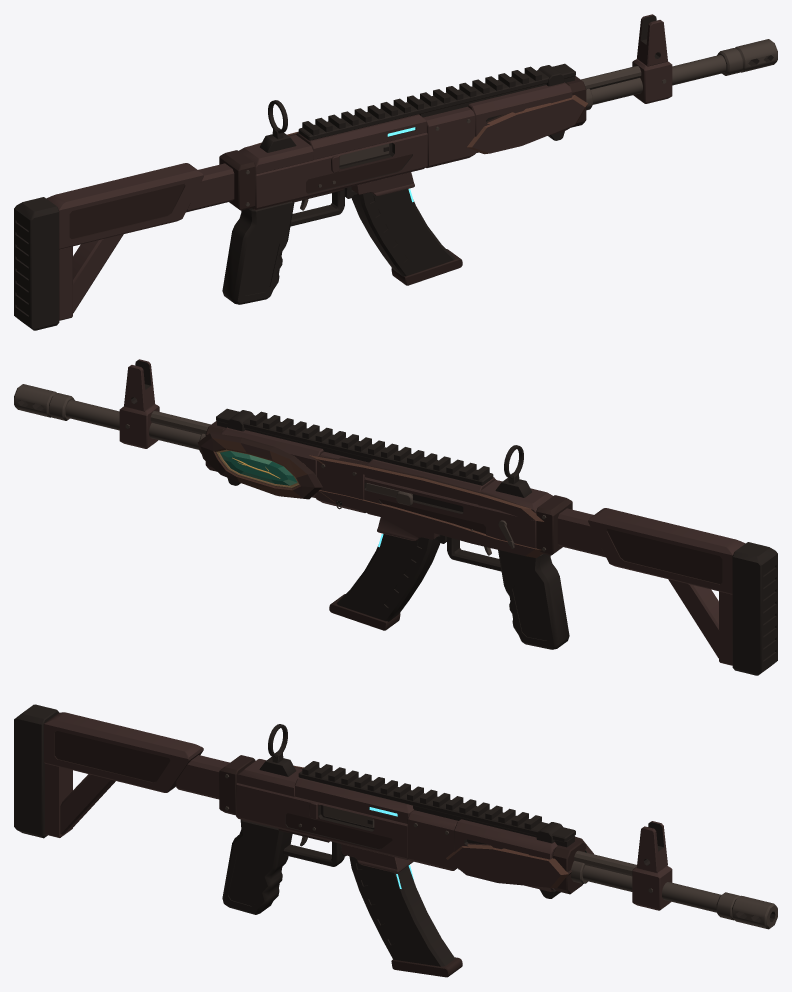
Rendered from Vandal_Rootglass_v01.fbx.
3 renders of one model, top to bottom at view 1: azimuth 30°, elevation 25°; view 2: azimuth 150°, elevation 25°; view 3: azimuth 330°, elevation 25°, orthographic.
Parts seen in each view (by area): view 1: Vandal_Stock, Vandal_Receiver, Vandal_Grip, Vandal_Mag, Vandal_Rail, Vandal_Barrel, Rootglass_RightWalnutCheek, Vandal_Handguard, Vandal_FrontSight, Vandal_RearSight, Vandal_Bolt; view 2: Vandal_Stock, Vandal_Receiver, Vandal_Grip, Vandal_Mag, Vandal_Rail, Vandal_Barrel, Rootglass_Left_CarvedShell, Rootglass_LowerWalnutLeaf, Rootglass_UpperWalnutLeaf, Vandal_FrontSight, Vandal_Handguard, Rootglass_Left_FacetedMineral (+1 smaller); view 3: Vandal_Stock, Vandal_Receiver, Vandal_Mag, Vandal_Rail, Vandal_Grip, Vandal_Barrel, Rootglass_RightWalnutCheek, Vandal_Handguard, Vandal_FrontSight, Vandal_RearSight, Vandal_Bolt.
Boxes of the visible parts, x1,y1,x2,y2 form: Vandal_Stock: (14, 163, 234, 330); Vandal_Receiver: (219, 106, 477, 210); Vandal_Grip: (222, 188, 344, 304); Vandal_Mag: (351, 189, 462, 285); Vandal_Rail: (298, 63, 575, 140); Vandal_Barrel: (581, 39, 777, 104); Rootglass_RightWalnutCheek: (467, 95, 588, 154); Vandal_Handguard: (468, 76, 592, 152); Vandal_FrontSight: (632, 14, 672, 103); Vandal_RearSight: (260, 100, 296, 152); Vandal_Bolt: (339, 143, 389, 165); Vandal_Stock: (557, 508, 777, 675); Vandal_Receiver: (314, 451, 572, 555); Vandal_Grip: (447, 537, 569, 649); Vandal_Mag: (329, 534, 440, 630); Vandal_Rail: (216, 408, 493, 485); Vandal_Barrel: (14, 384, 210, 449); Rootglass_Left_CarvedShell: (197, 431, 322, 499); Rootglass_LowerWalnutLeaf: (319, 490, 543, 557); Rootglass_UpperWalnutLeaf: (309, 455, 543, 521); Vandal_FrontSight: (119, 359, 159, 448); Vandal_Handguard: (199, 421, 323, 497); Rootglass_Left_FacetedMineral: (220, 451, 297, 485); Vandal_Stock: (14, 704, 229, 838); Vandal_Receiver: (219, 755, 458, 873); Vandal_Mag: (349, 856, 462, 977); Vandal_Rail: (298, 761, 575, 847); Vandal_Grip: (222, 819, 344, 914); Vandal_Barrel: (574, 850, 777, 929); Rootglass_RightWalnutCheek: (446, 843, 571, 887); Vandal_Handguard: (454, 819, 587, 898); Vandal_FrontSight: (632, 821, 672, 910); Vandal_RearSight: (259, 724, 296, 776); Vandal_Bolt: (323, 805, 374, 827).
Size of the model in its own units: 390 by 104 by 23.7.
